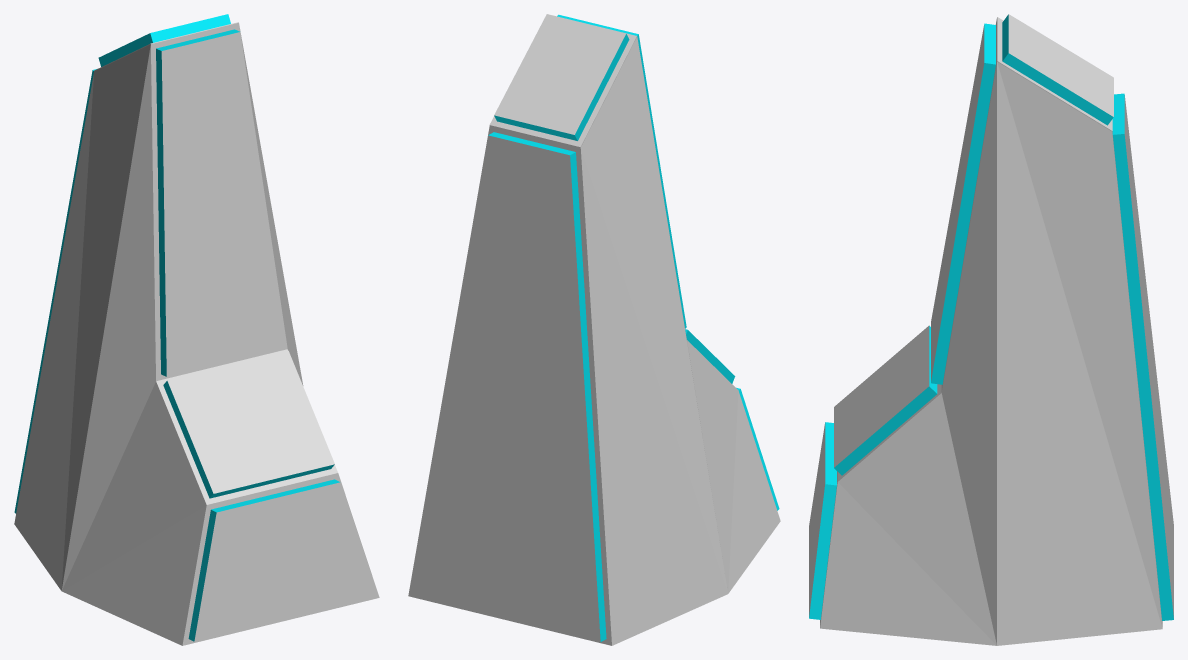
Rendered from Monolith Bldg 2.dae.
The picture shows the model from 3 angles, left to right: view 1: azimuth 30°, elevation 25°; view 2: azimuth 150°, elevation 25°; view 3: azimuth 270°, elevation 25°; orthographic projection. The views are drawn at different scales.
Parts seen in each view (by area): view 1: SketchUp (×9); view 2: SketchUp (×7); view 3: SketchUp (×11).
Part boxes in pixels (x1,y1,x2,y2): SketchUp (×9): (14,14,379,645); SketchUp (×7): (408,14,780,645); SketchUp (×11): (809,14,1173,645).
Size of the model in its own units: 105 by 121 by 199.
